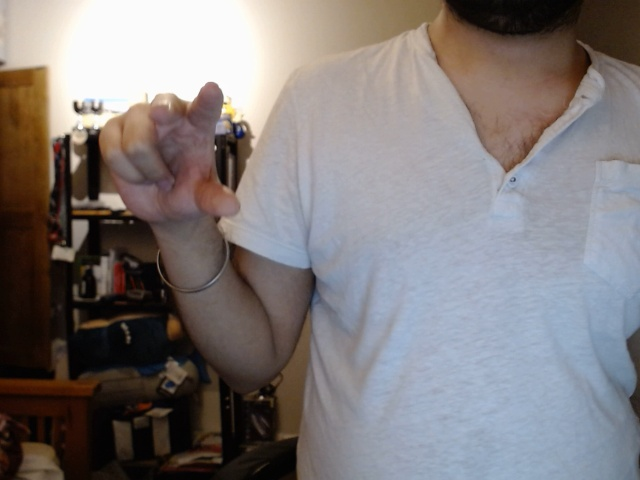No: (100, 80, 255, 247)
